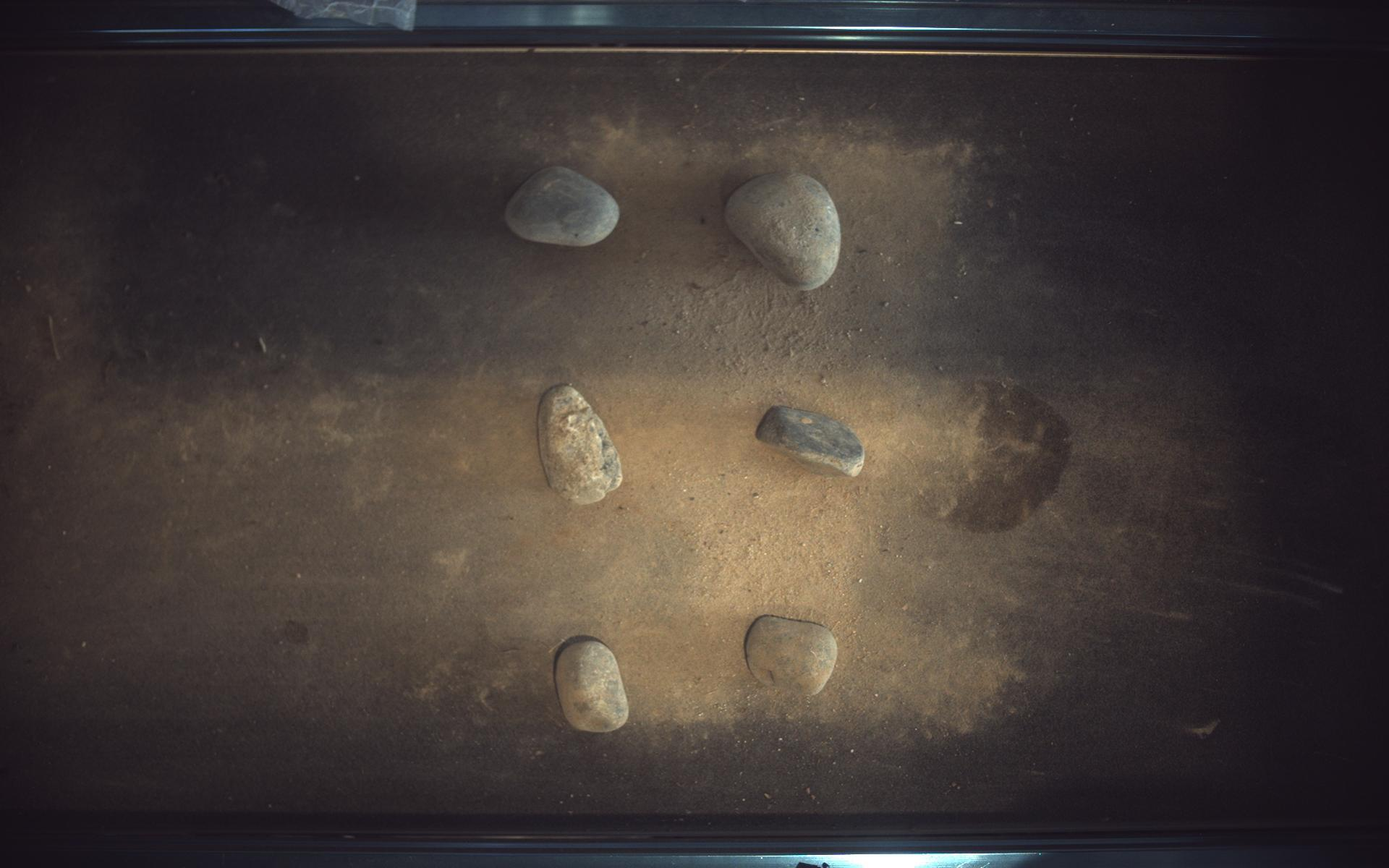stone: (726, 172, 841, 289), (538, 385, 623, 505), (505, 166, 620, 245), (757, 406, 866, 477), (746, 616, 838, 697), (554, 638, 629, 734)
